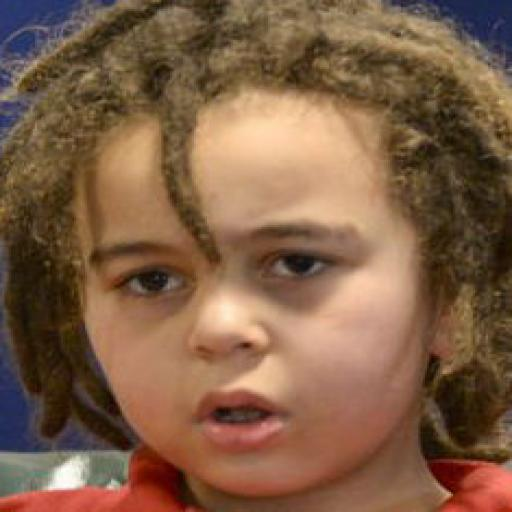Autism: (12, 19, 500, 473)
